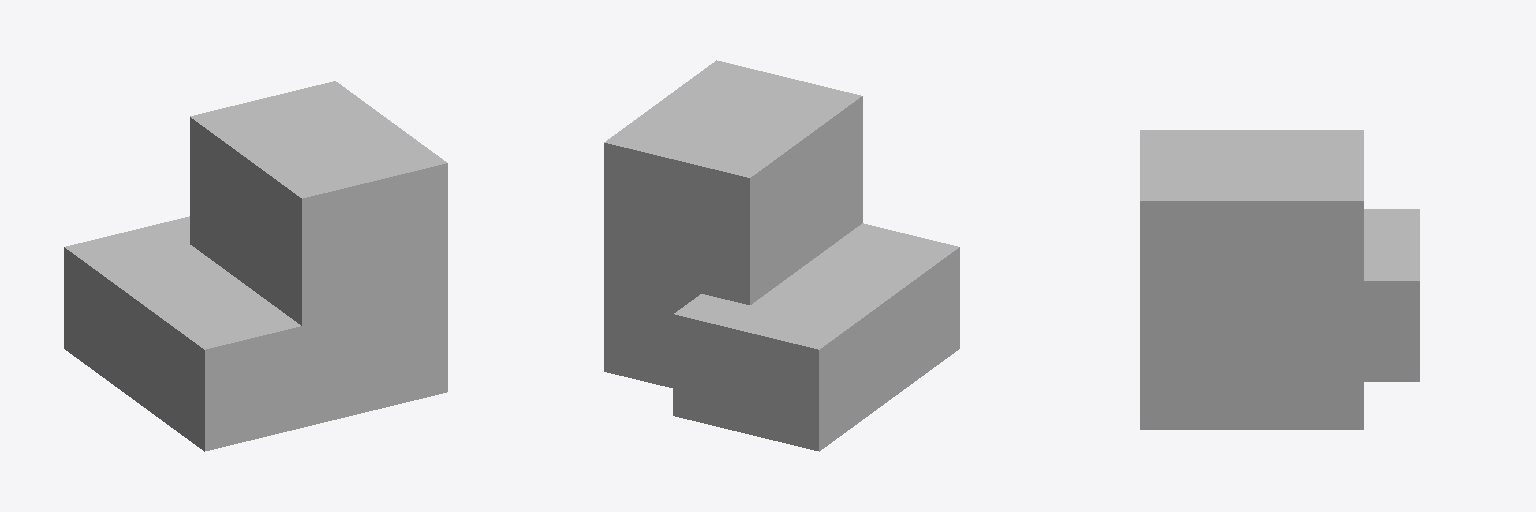
File: Wall_03.obj
3 renders of one model, left to right at view 1: azimuth 30°, elevation 25°; view 2: azimuth 150°, elevation 25°; view 3: azimuth 270°, elevation 25°, orthographic.
Visible parts, largest first — view 1: Untitled; view 2: Untitled; view 3: Untitled.
Boxes of the visible parts, <box> form: Untitled: <box>64,81,447,451</box>; Untitled: <box>604,60,959,451</box>; Untitled: <box>1140,130,1419,429</box>.
Size of the model in its own units: 1 by 0.9 by 1.